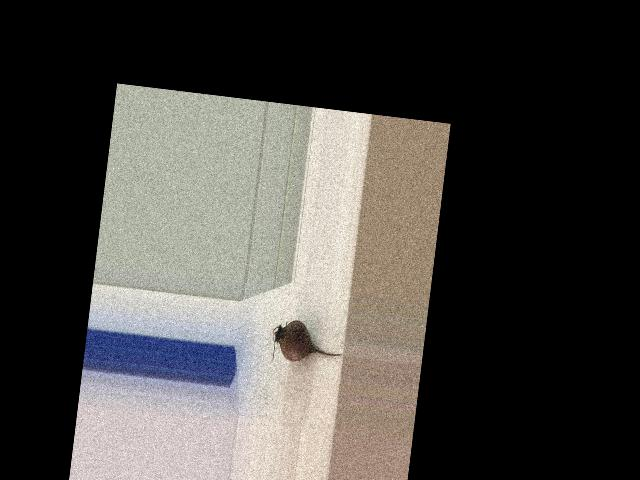beet: (269, 318, 345, 370)
